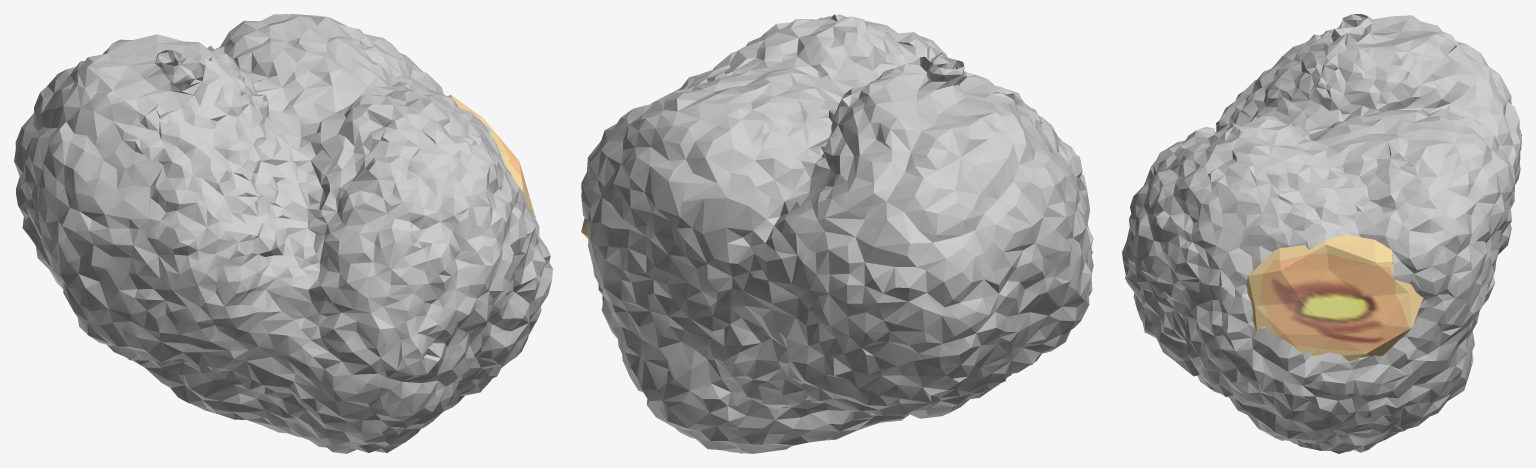
File: truffleeyes.fbx
The picture shows the model from 3 angles, left to right: view 1: azimuth 30°, elevation 25°; view 2: azimuth 150°, elevation 25°; view 3: azimuth 270°, elevation 25°; orthographic projection. The views are drawn at different scales.
Parts seen in each view (by area): view 1: Truffe; view 2: Truffe; view 3: Truffe.
Boxes of the visible parts, box(x1,y1,x2,y2) form: Truffe: box(14, 14, 552, 453); Truffe: box(581, 14, 1093, 453); Truffe: box(1122, 14, 1521, 453).
Size of the model in its own units: 81.01 by 68.59 by 72.14.
